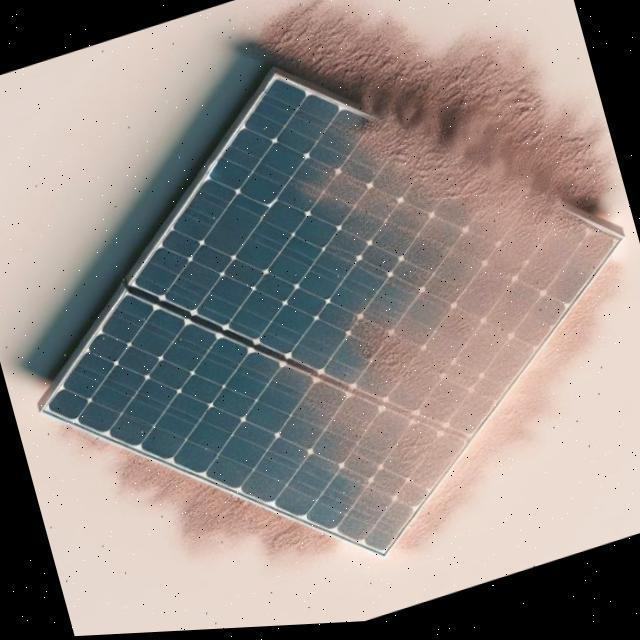Anomaly Solar Panel: (45, 32, 623, 623)
Surface Contaminant: (143, 70, 625, 569)
